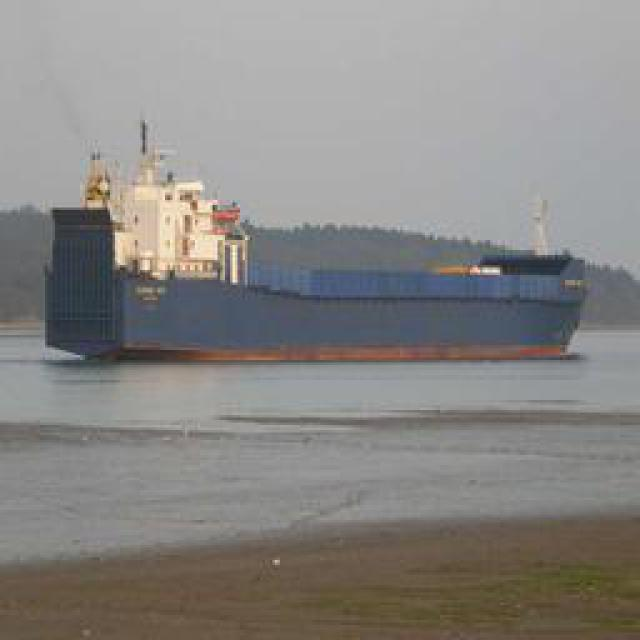Ship: (41, 153, 584, 372)
